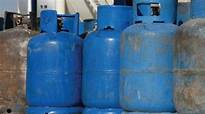blue_gas: (122, 1, 179, 114), (27, 9, 81, 114), (82, 5, 133, 112), (173, 1, 205, 112)
